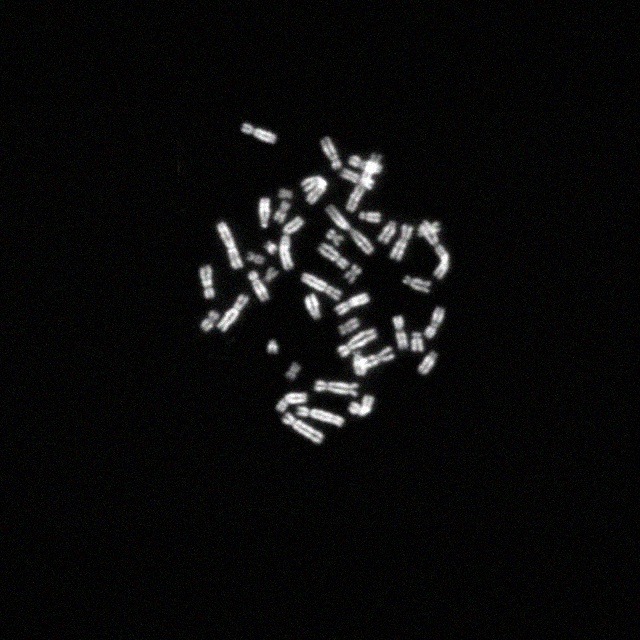chromosome: (324, 203, 374, 255), (348, 152, 384, 212), (420, 220, 450, 280), (279, 215, 305, 269), (216, 221, 244, 269), (282, 412, 324, 444), (218, 294, 250, 334), (337, 329, 379, 357), (302, 272, 342, 300), (353, 346, 395, 372), (297, 406, 345, 426), (314, 379, 360, 399), (390, 223, 414, 260), (335, 292, 369, 316), (317, 243, 348, 269), (240, 122, 276, 144), (300, 176, 328, 204), (340, 168, 374, 190), (276, 391, 310, 413), (322, 136, 342, 170), (199, 263, 217, 299), (350, 155, 384, 173), (248, 270, 268, 300), (426, 307, 444, 339), (392, 314, 408, 350), (402, 275, 432, 293), (418, 349, 438, 376), (351, 395, 374, 417), (379, 218, 397, 244), (304, 294, 322, 318), (201, 310, 219, 332), (258, 197, 270, 229), (416, 221, 440, 237), (340, 318, 360, 337), (274, 200, 290, 223), (351, 350, 365, 374), (326, 229, 344, 247), (344, 264, 362, 282), (286, 362, 302, 380), (360, 210, 382, 222), (264, 267, 278, 285), (412, 331, 424, 352), (278, 187, 294, 201), (264, 241, 278, 255), (248, 252, 264, 264), (268, 340, 280, 356)
